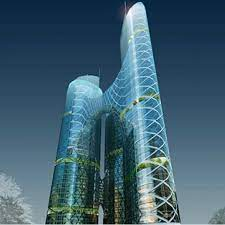high_rise_building: (54, 1, 179, 223)
